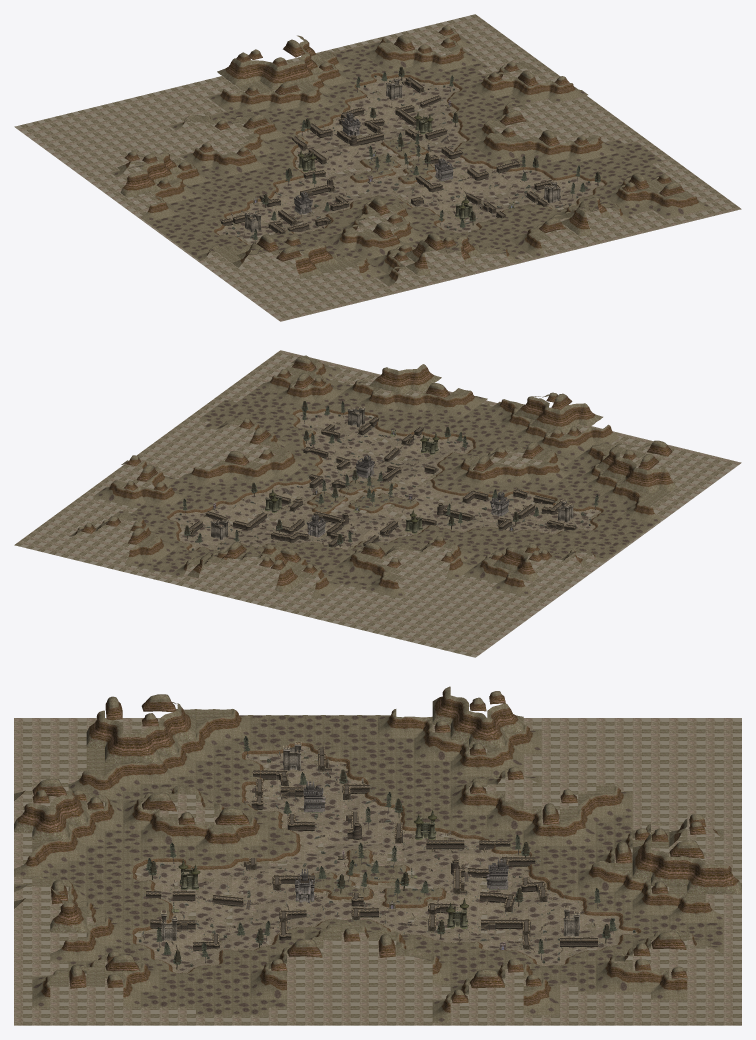
File: map_F05_05.glb
The picture shows the model from 3 angles, top to bottom: view 1: azimuth 30°, elevation 25°; view 2: azimuth 150°, elevation 25°; view 3: azimuth 270°, elevation 25°; orthographic projection. The views are drawn at different scales.
Visible parts, largest first — view 1: default_ground, FM_F05_mount01_ADA (×5), FM_F05_mount01_AEA (×2); view 2: default_ground, FM_F05_mount01_ADA (×3), FM_F05_mount01_AEA (×2); view 3: default_ground, FM_F05_mount01_ADA (×10), FM_F05_mount01_AEA (×4), FM_F05_valy01_AEA (×3), FM_F05_mount02_AAA (×3), OM_30_mi_fort04A (×2), FM_F05_valy01_ADA, FM_F05_valy01_AJA, FM_F05_valy01_AKA.
Boxes of the visible parts, <box> form: default_ground: <box>14,14,741,321</box>; FM_F05_mount01_ADA (×5): <box>211,47,688,259</box>; FM_F05_mount01_AEA (×2): <box>513,137,663,212</box>; default_ground: <box>14,350,741,657</box>; FM_F05_mount01_ADA (×3): <box>438,393,588,485</box>; FM_F05_mount01_AEA (×2): <box>208,460,518,487</box>; default_ground: <box>14,718,741,1025</box>; FM_F05_mount01_ADA (×10): <box>68,732,632,1015</box>; FM_F05_mount01_AEA (×4): <box>32,716,614,868</box>; FM_F05_valy01_AEA (×3): <box>268,792,578,902</box>; FM_F05_mount02_AAA (×3): <box>123,733,723,894</box>; OM_30_mi_fort04A (×2): <box>303,781,508,889</box>; FM_F05_valy01_ADA: <box>214,853,250,871</box>; FM_F05_valy01_AJA: <box>123,853,159,871</box>; FM_F05_valy01_AKA: <box>434,822,468,840</box>.
Size of the model in its own units: 960 by 83.1 by 960.
Materials: 151 (151 with a texture image).
